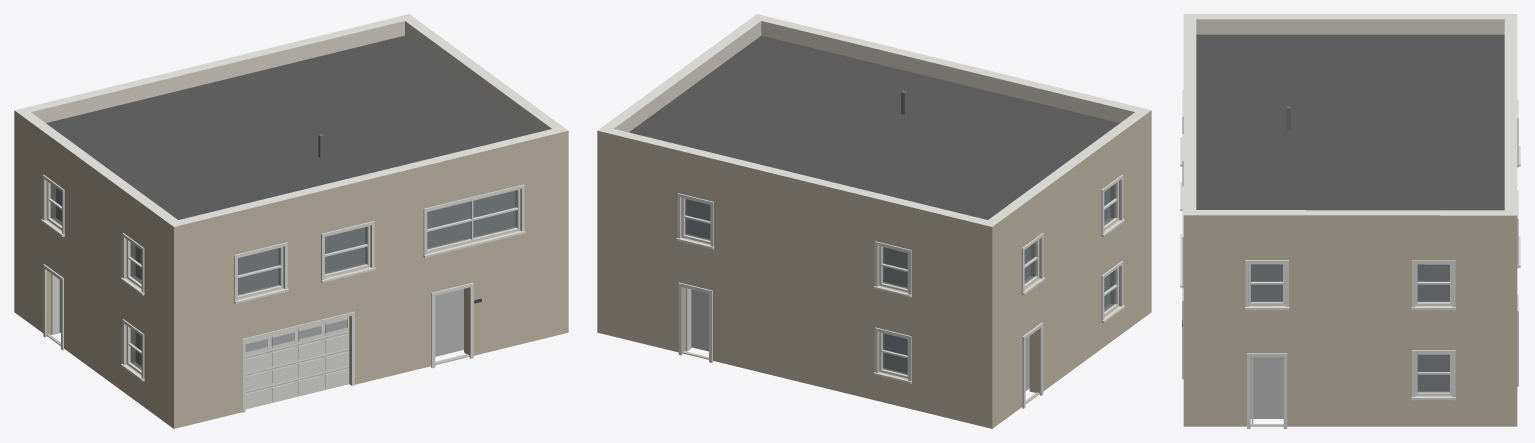
The model's file is exterior.glb.
3 views of the same model, side by side, from view 1: azimuth 30°, elevation 25°; view 2: azimuth 150°, elevation 25°; view 3: azimuth 270°, elevation 25° (orthographic). The views are drawn at different scales.
Visible parts, largest first — view 1: shell, roof, doors, shadow-proxy, glazing, trim, frames; view 2: shell, roof, trim, shadow-proxy, glazing, frames, doors; view 3: shell, roof, shadow-proxy, trim, glazing, frames.
Part boxes in pixels (x1,y1,x2,y2): shell: (14,14,568,428); roof: (46,35,536,219); doors: (46,274,469,412); shadow-proxy: (56,188,514,365); glazing: (50,184,516,369); trim: (41,174,525,381); frames: (47,181,520,374); shell: (597,14,1151,428); roof: (629,35,1119,219); trim: (676,174,1124,408); shadow-proxy: (687,188,1109,390); glazing: (685,184,1115,374); frames: (681,181,1118,378); doors: (682,288,1039,403); shell: (1183,14,1517,426); roof: (1196,34,1504,210); shadow-proxy: (1250,264,1449,418); trim: (1180,89,1520,428); glazing: (1251,264,1449,392); frames: (1248,263,1452,395).
Bounding box in the file's own units: 13.13 × 6.6 × 9.24.
